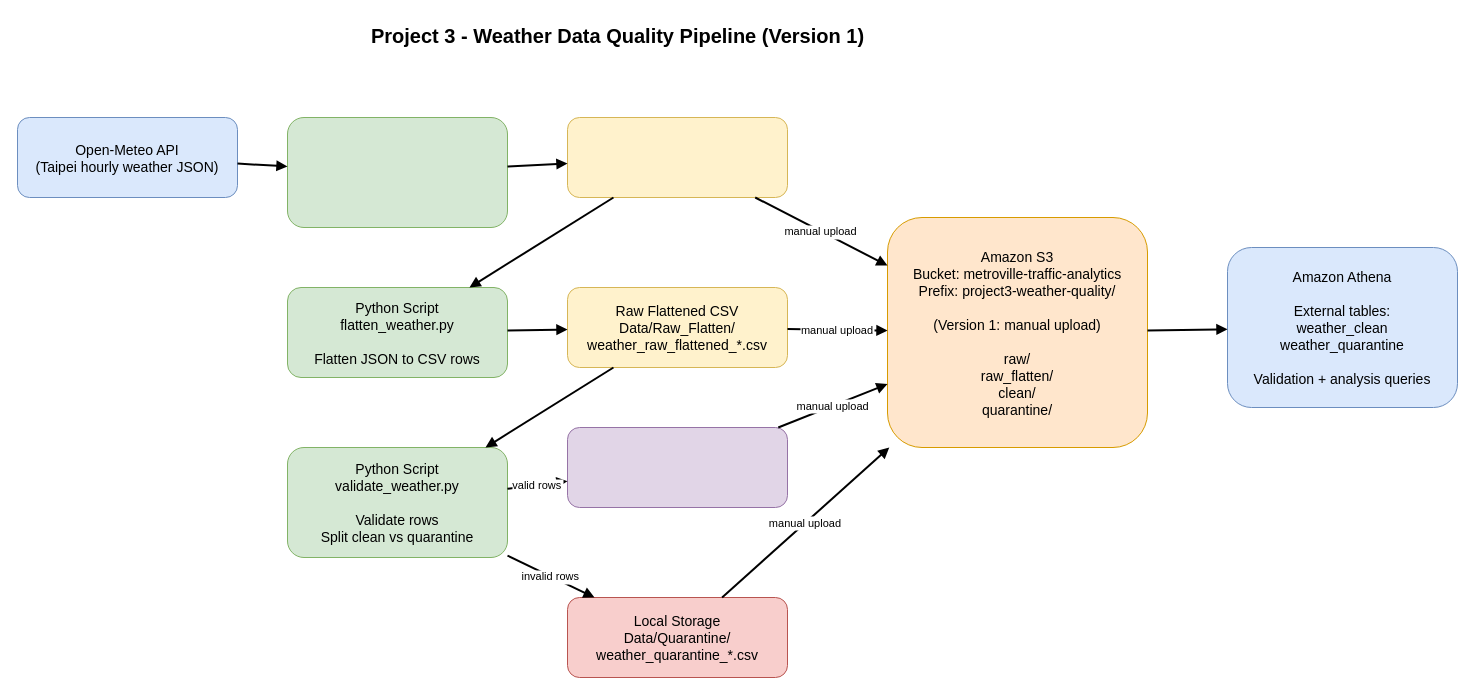
The diagram is 1475 pixels wide and 695 high, and some of its shapes have lost their labels. Here are the shapes that lost their labels. From the top down, the box of each, then its label:
(286, 116, 508, 228): Python Script ingest_weather.py Fetch API data Save raw JSON locally
(566, 116, 788, 198): Local Storage Data/Raw/ weather_raw_*.json
(566, 426, 788, 508): Local Storage Data/Clean/ weather_clean_*.csv
